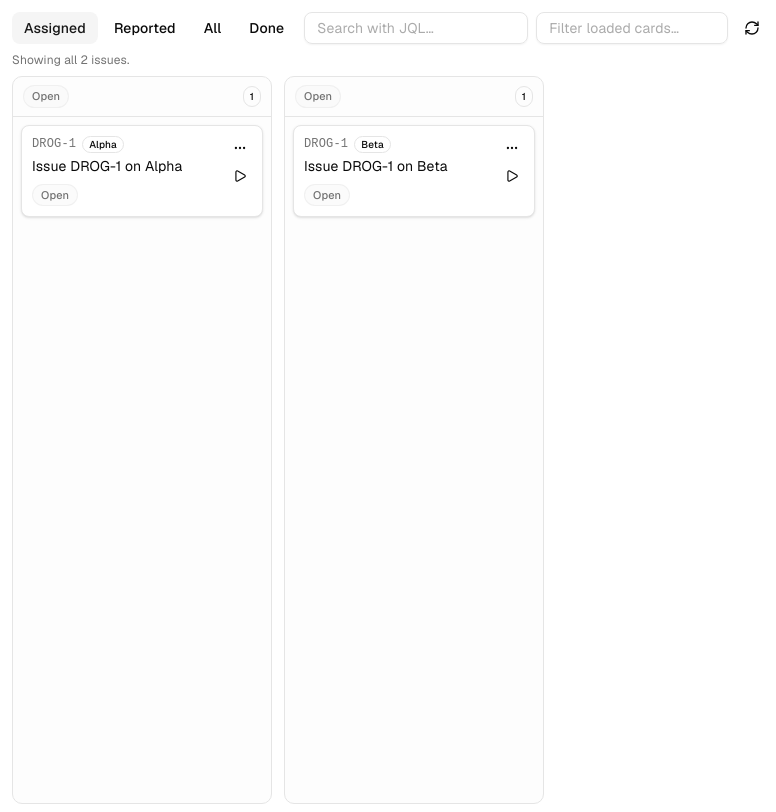
Test case: JiraKanbanBoard › keeps selection across filter changes by composed identity
The image size is (776, 812).
// Ctrl-click both (jsdom is non-Mac → ctrl is the toggle modifier).
Click the list item "DROG-1 Alpha Issue DROG-1 on Alpha Open" at (142, 171), box top-left (21, 124), bottom-right (263, 217)
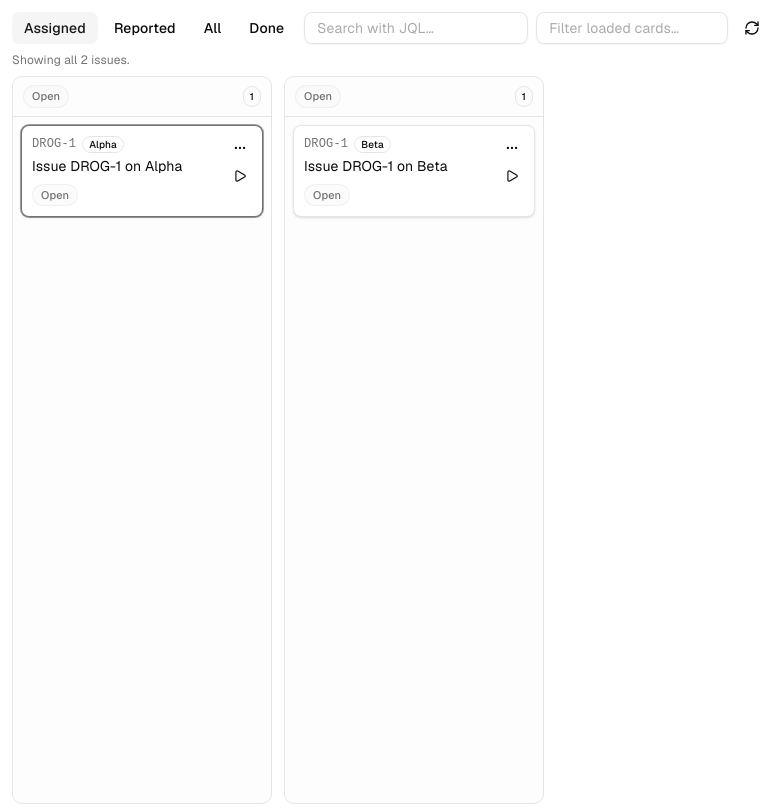
Click the list item "DROG-1 Beta Issue DROG-1 on Beta Open" at (414, 171), box top-left (293, 124), bottom-right (535, 217)
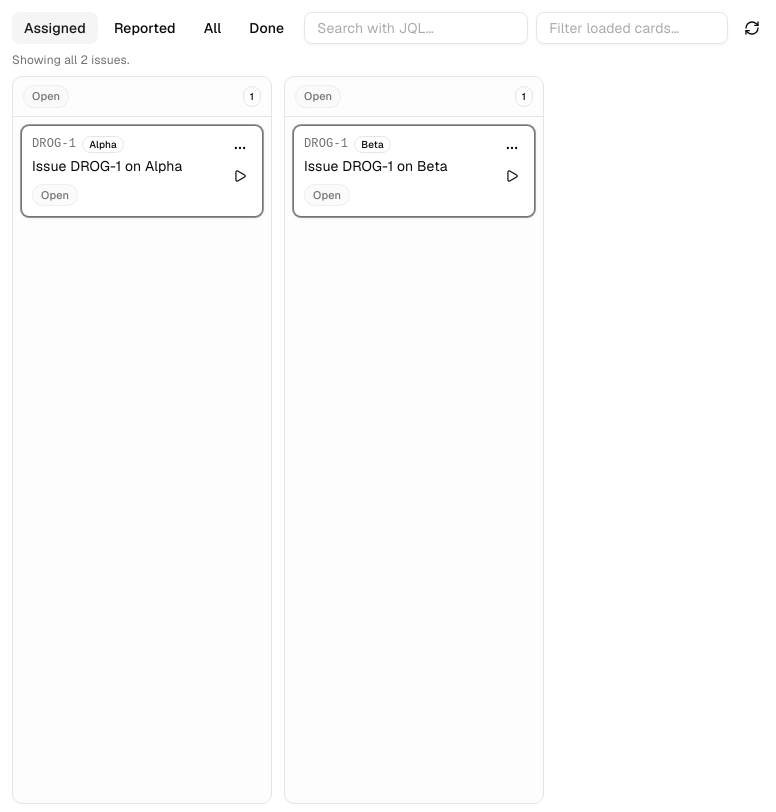
Type "Beta" into the field with placeholder "Filter loaded cards…" at (632, 28), box top-left (536, 12), bottom-right (728, 44)
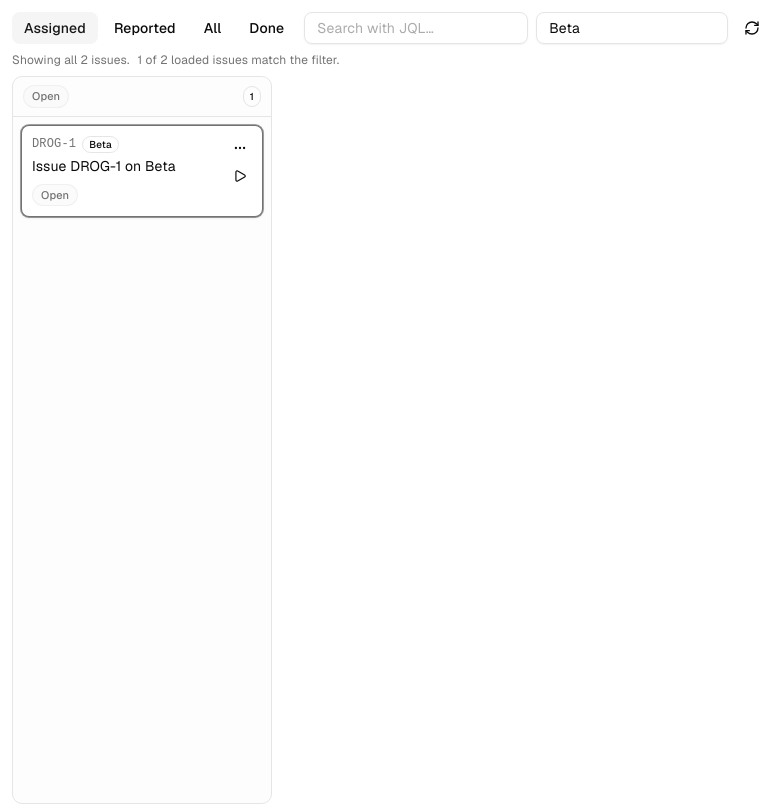
Expected: the number of list items is 1, top-left (21, 124), bottom-right (263, 217)
// Clearing the filter restores BOTH selections — nothing was lost.
Clear the field named "Filter loaded cards" at (632, 28), box top-left (536, 12), bottom-right (728, 44)
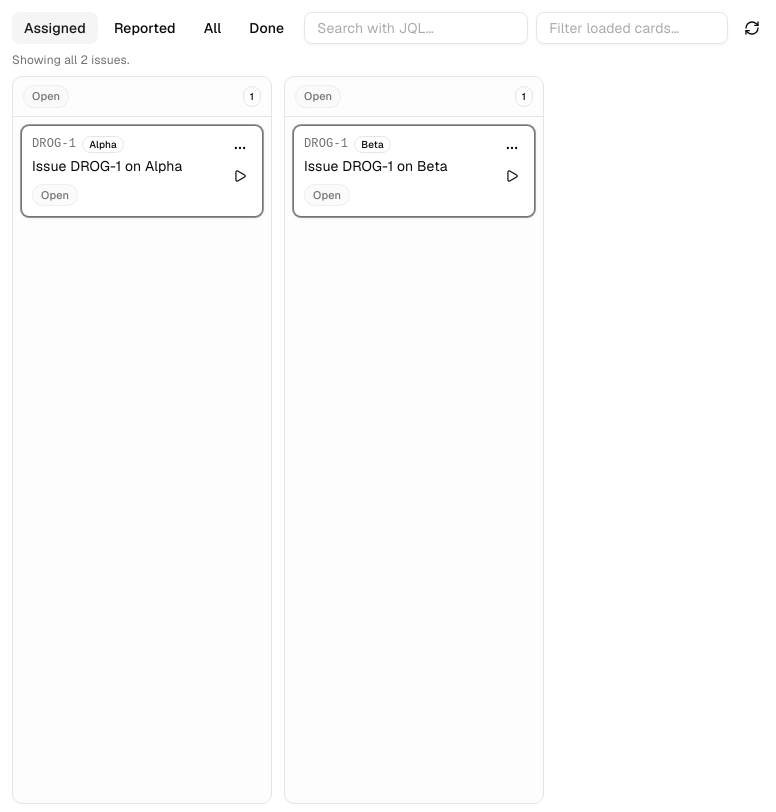
Expected: the number of list items is 2, top-left (21, 124), bottom-right (263, 217); top-left (293, 124), bottom-right (535, 217)
